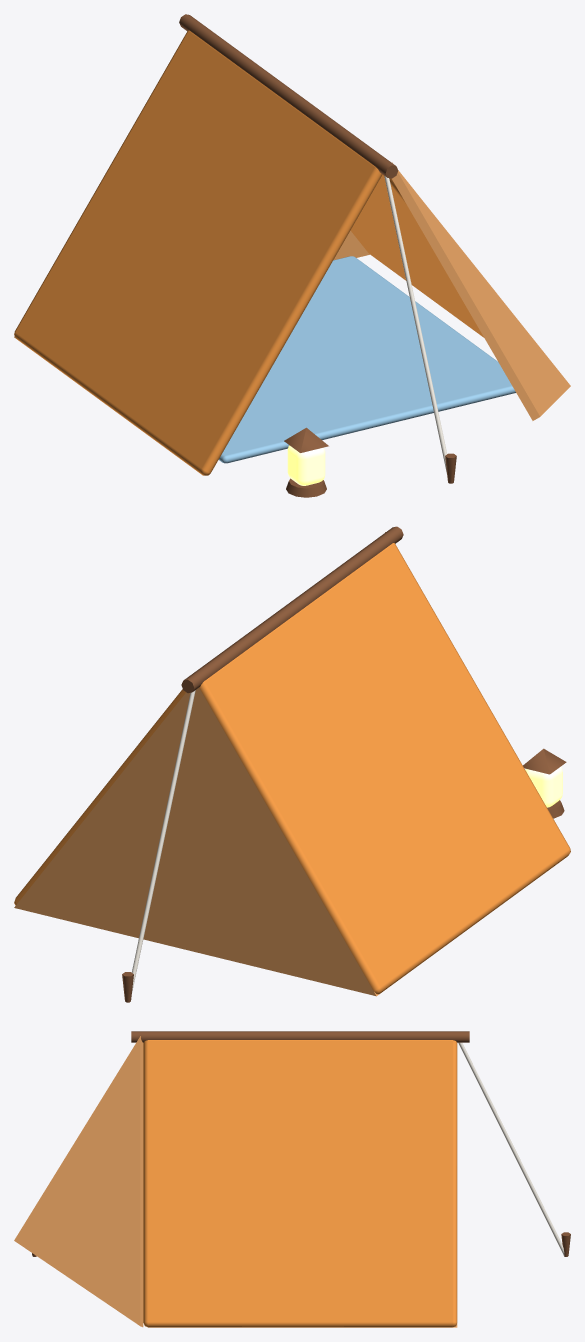
File: campfire-tent.glb
The picture shows the model from 3 angles, top to bottom: view 1: azimuth 30°, elevation 25°; view 2: azimuth 150°, elevation 25°; view 3: azimuth 270°, elevation 25°; orthographic projection. The views are drawn at different scales.
Bounding box in the file's own units: 1.43 × 1.03 × 2.31.
